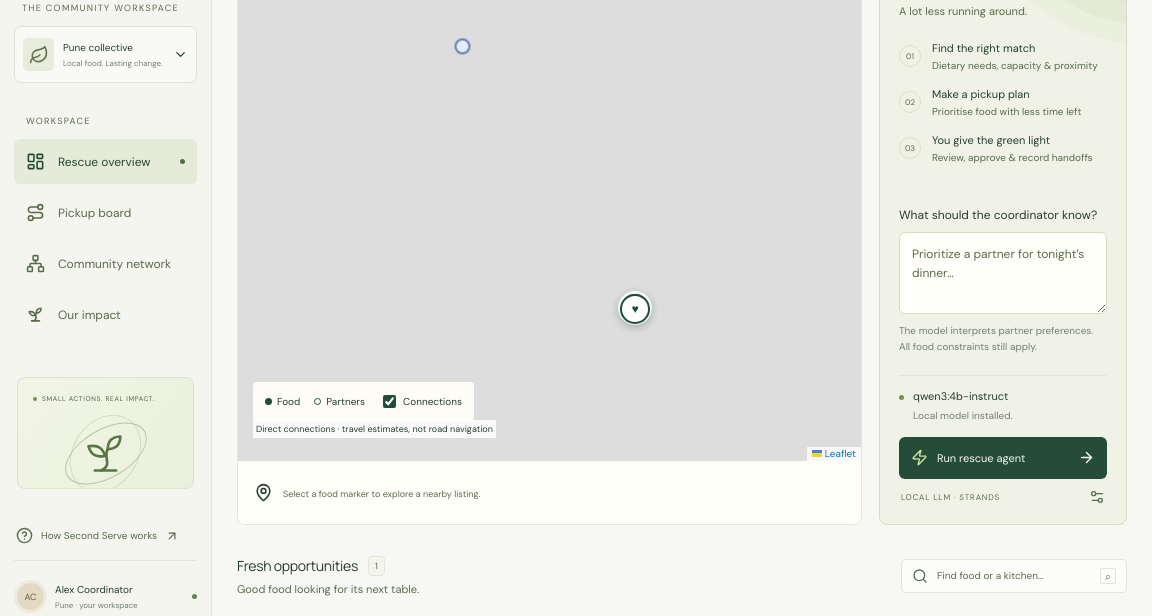
Scenario: coordinator interface › shows real model identity, sends coordinator context and exposes model responses
(page scrolled)
Expected: the text "LOCAL LLM · STRANDS" is shown, top-left (901, 492), bottom-right (1000, 502)
In the text box named "Rescue preferences": (1003, 273) top-left (899, 232), bottom-right (1107, 314), type "Prioritize Community Table tonight."
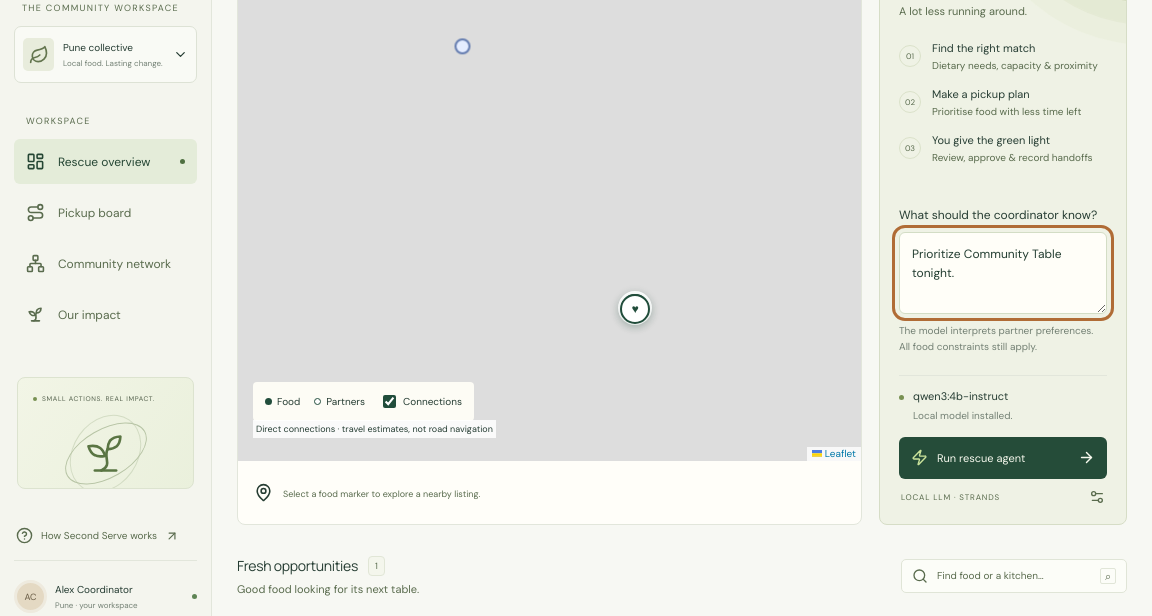
Click the button "Run rescue agent": (1003, 458) top-left (899, 437), bottom-right (1107, 479)
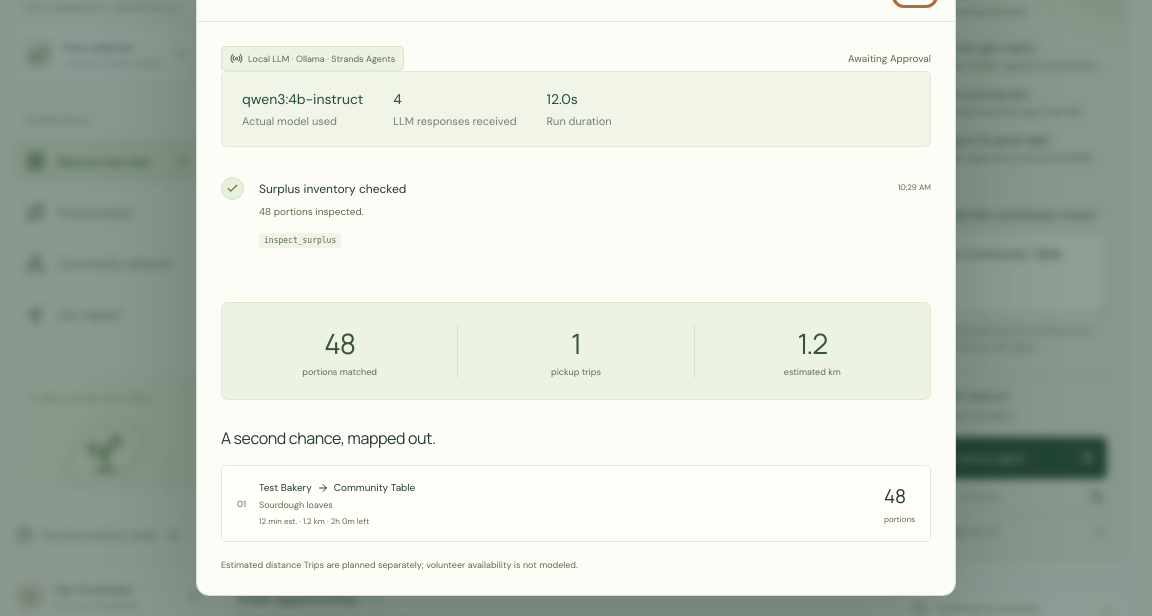
Expected: the text "qwen3:4b-instruct" is shown, top-left (242, 90), bottom-right (363, 108)
Expected: the text "LLM responses received" is shown, top-left (393, 114), bottom-right (516, 128)
